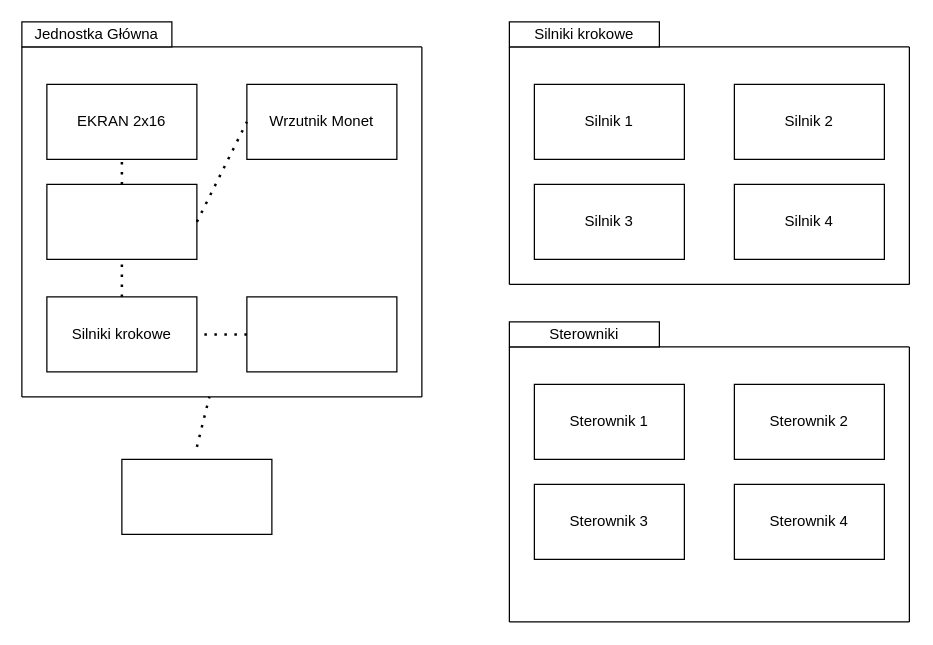
Some shapes in this 933 by 645 pixel diagram are drawn without their labels. The shapes that lost their labels are listed below. From the top down, each one's centre as x and y in pixels, then its label:
the point at 121,221: Arduino Mega 2560
the point at 321,334: Sterowniki Silników
the point at 196,496: Zasilanie
